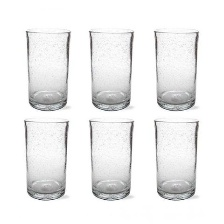glass: (145, 21, 199, 111), (18, 113, 71, 203), (22, 22, 75, 112), (150, 114, 202, 203), (87, 112, 138, 201), (88, 24, 137, 113)
